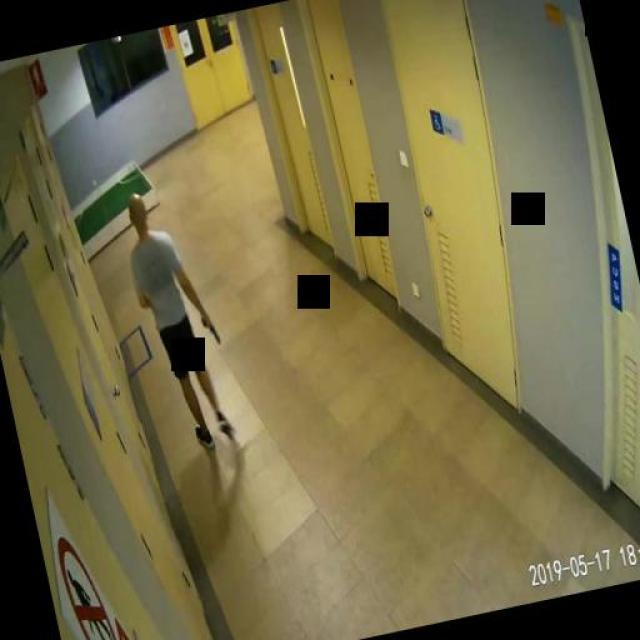gun: (198, 308, 216, 342)
